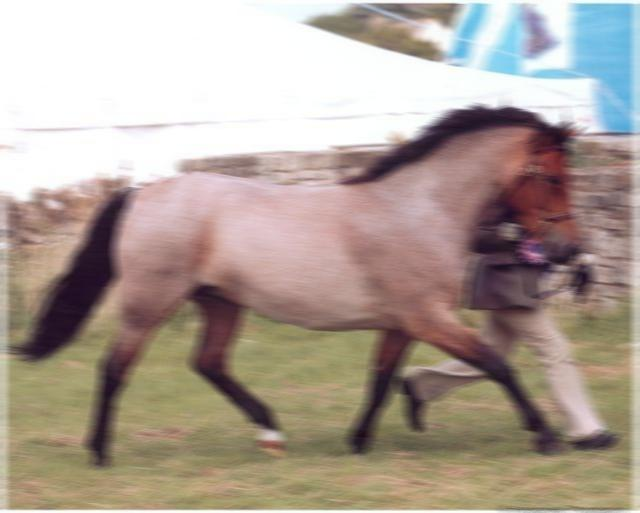horse: (2, 99, 586, 470)
